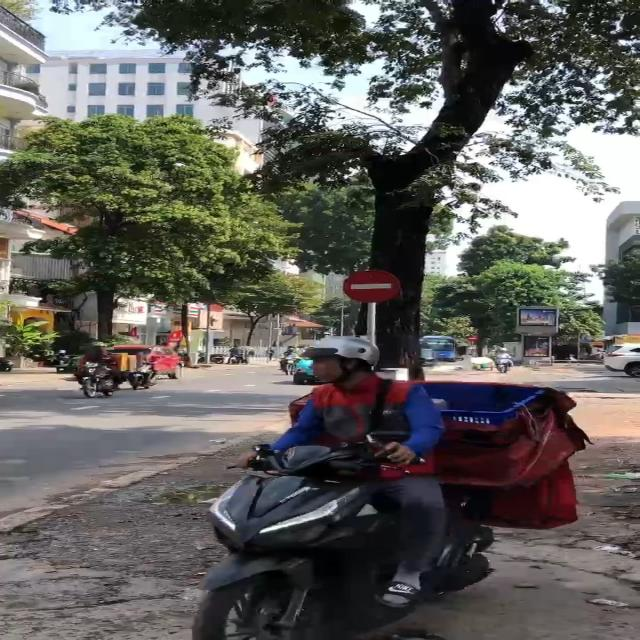Bien bao cam di nguoc chieu: (341, 267, 404, 304)
